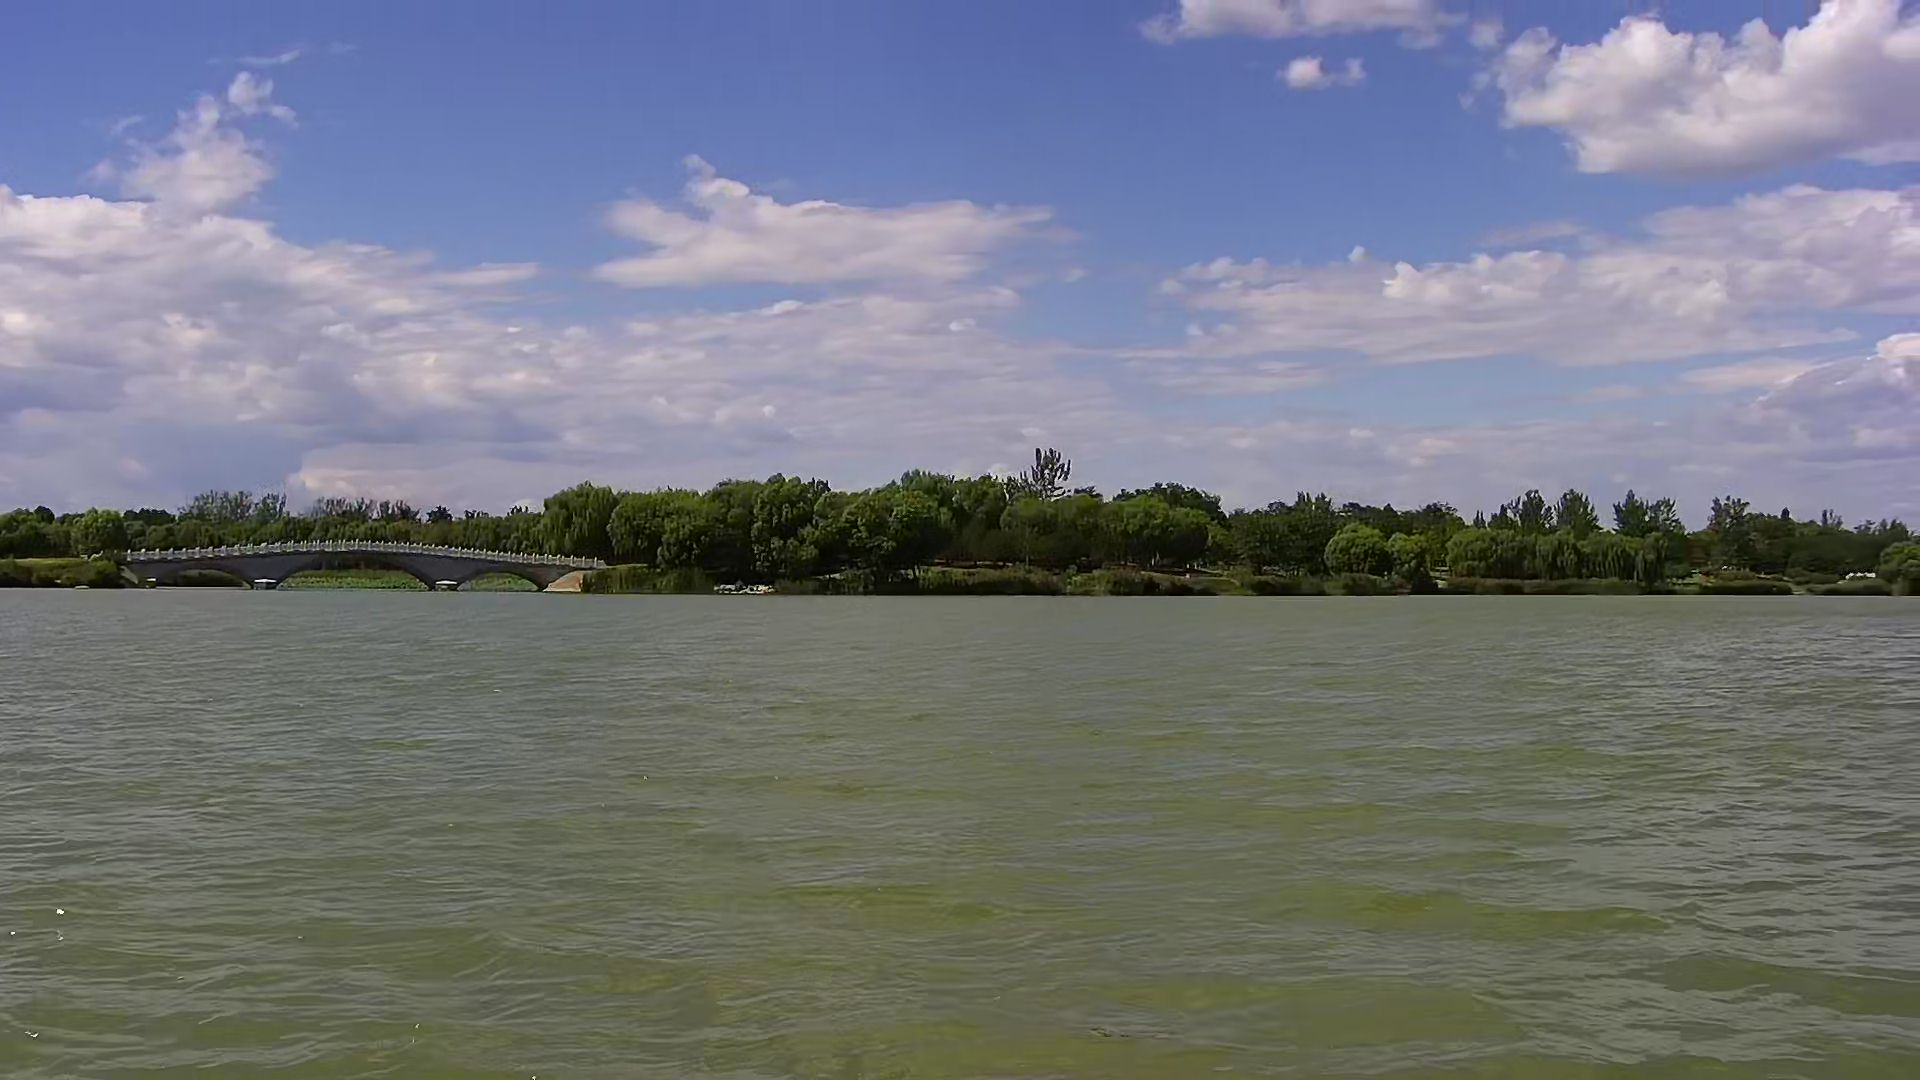bridge: (117, 534, 624, 597)
